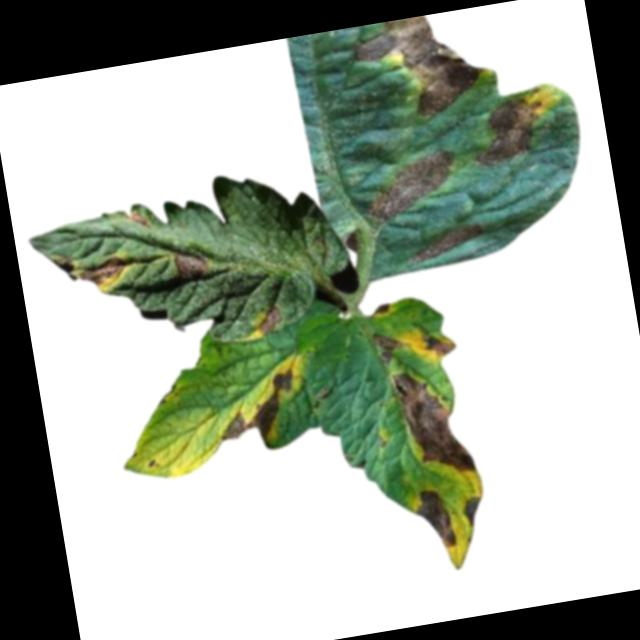Early_blight: (351, 8, 491, 124), (391, 361, 480, 480), (360, 145, 466, 224), (212, 365, 305, 450), (466, 90, 547, 169), (405, 218, 489, 265), (411, 483, 458, 552), (75, 249, 132, 293), (171, 246, 212, 282), (370, 328, 404, 366), (253, 300, 288, 336), (424, 327, 457, 357), (460, 495, 487, 528), (127, 206, 152, 228), (373, 299, 390, 316)
